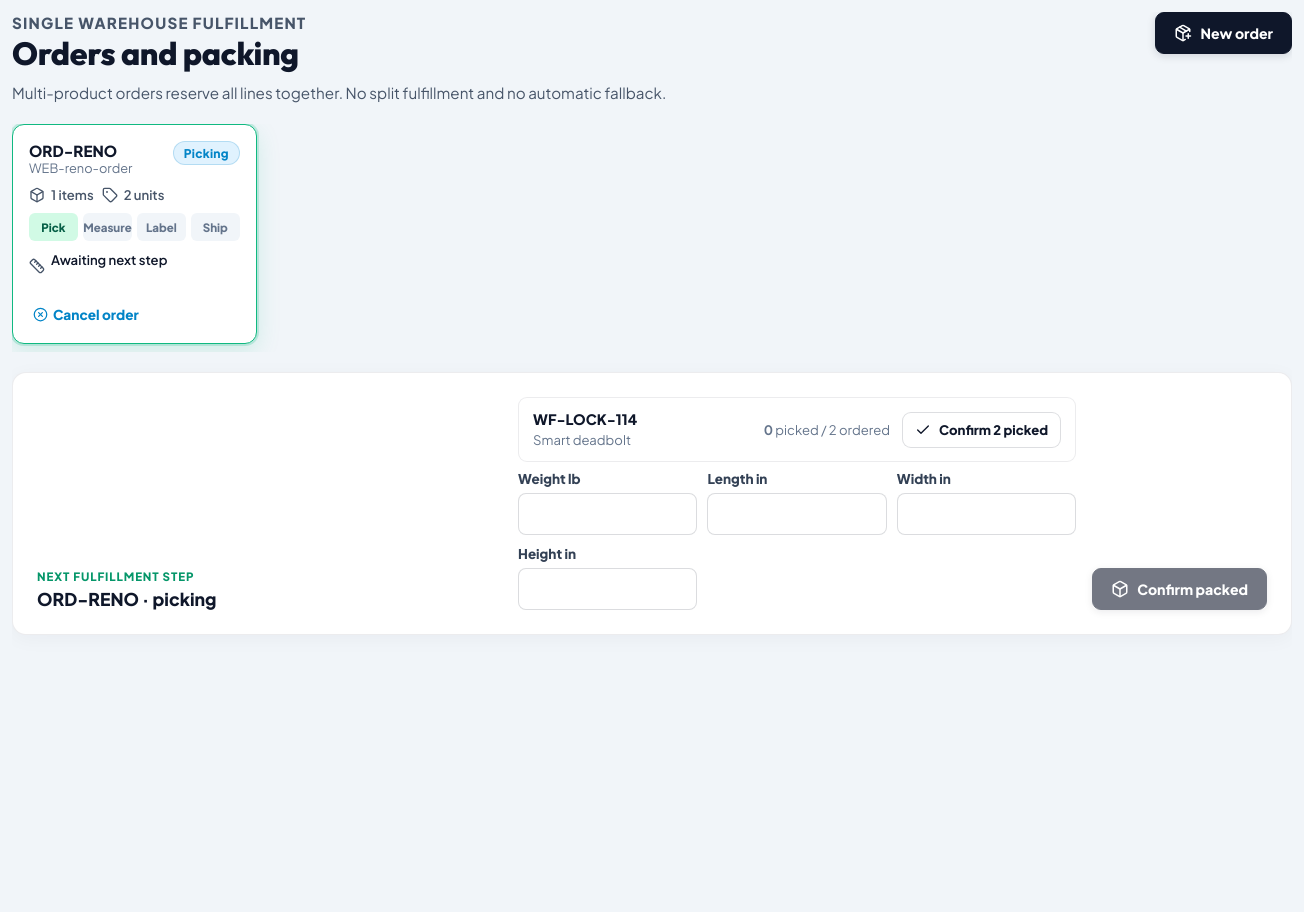
Scenario: OrdersPage picking safety › refreshes orders and released inventory after a confirmed cancellation
Click the button "Cancel order". click: coordinates (134, 315)
box: [29,302,240,327]
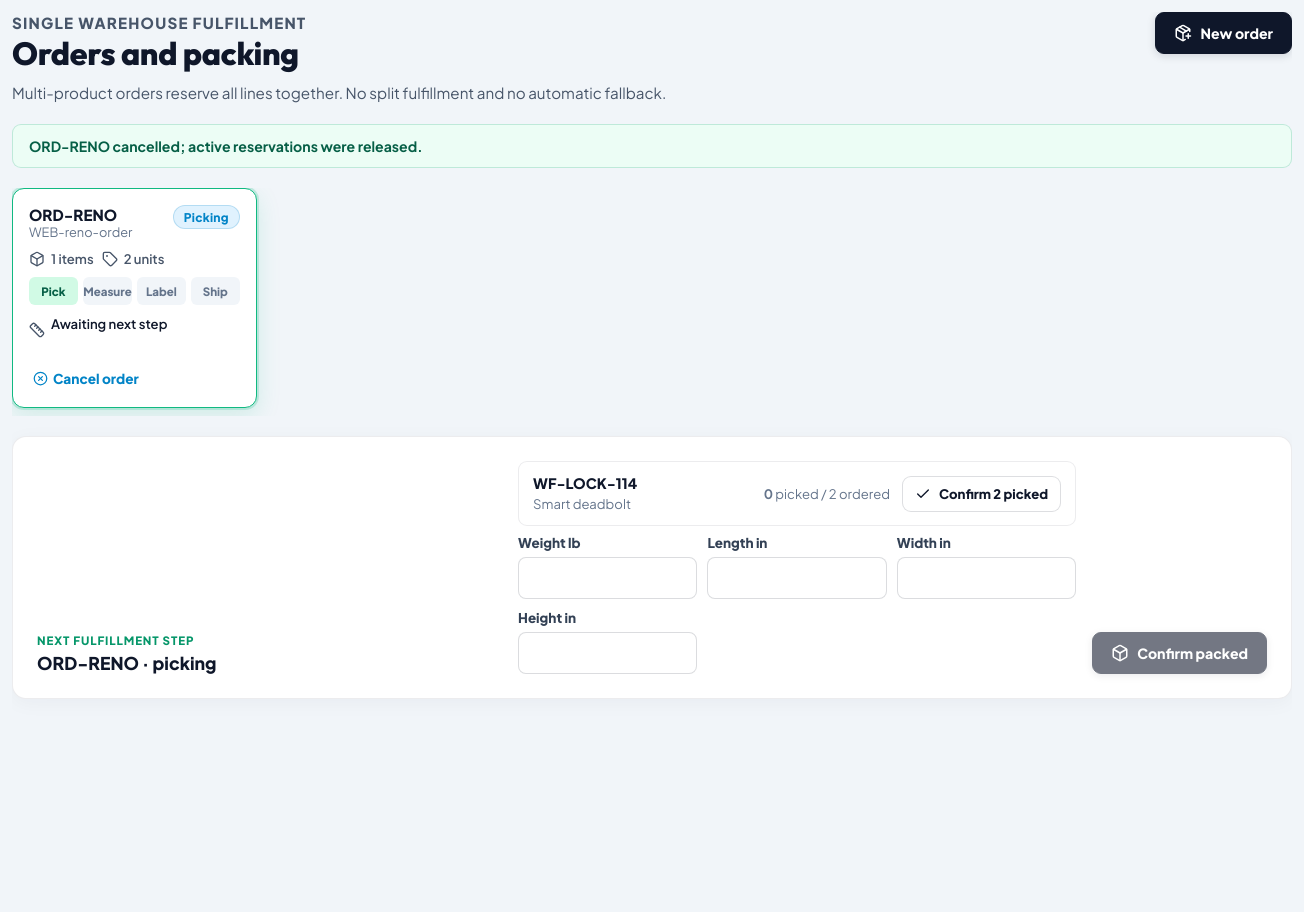
Check: the message shows "active reservations were released", box [29,137,422,155]
